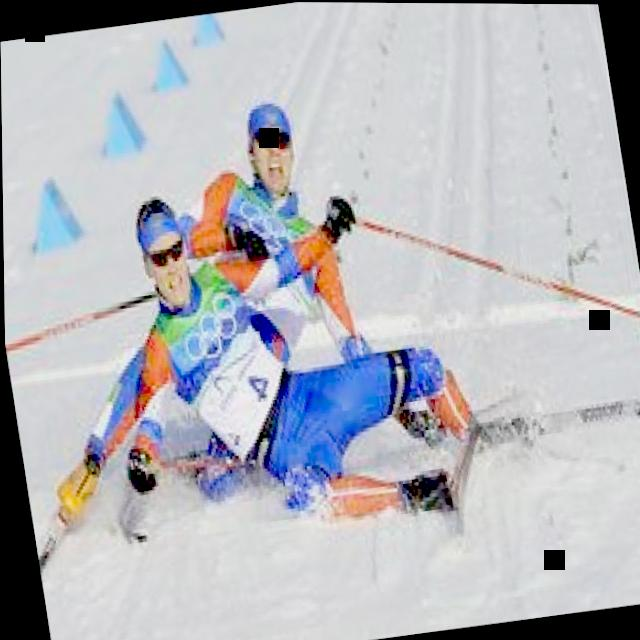Fall-Detected: (162, 68, 412, 373)
